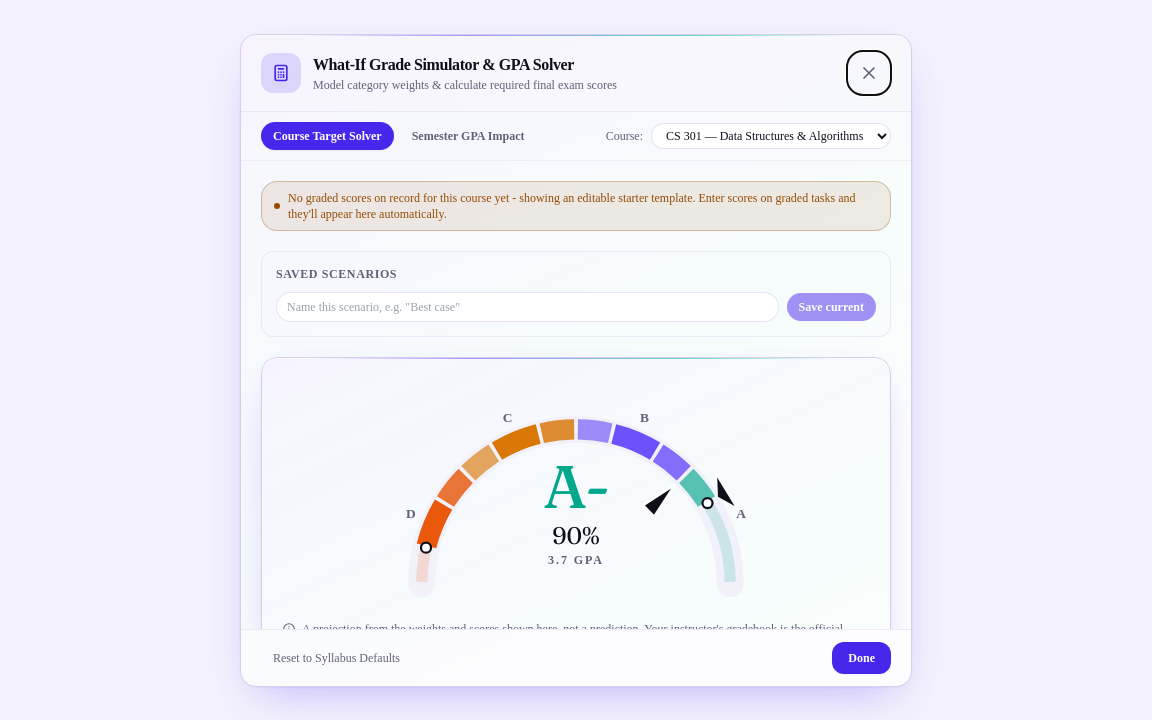
GradeCalculatorModal (Item 36) › switches between Course Target Solver and Semester GPA Impact tabs
The width and height of the screenshot is (1152, 720).
Step 1. Click the button "Semester GPA Impact" → click(468, 136), box [400,122,537,150]
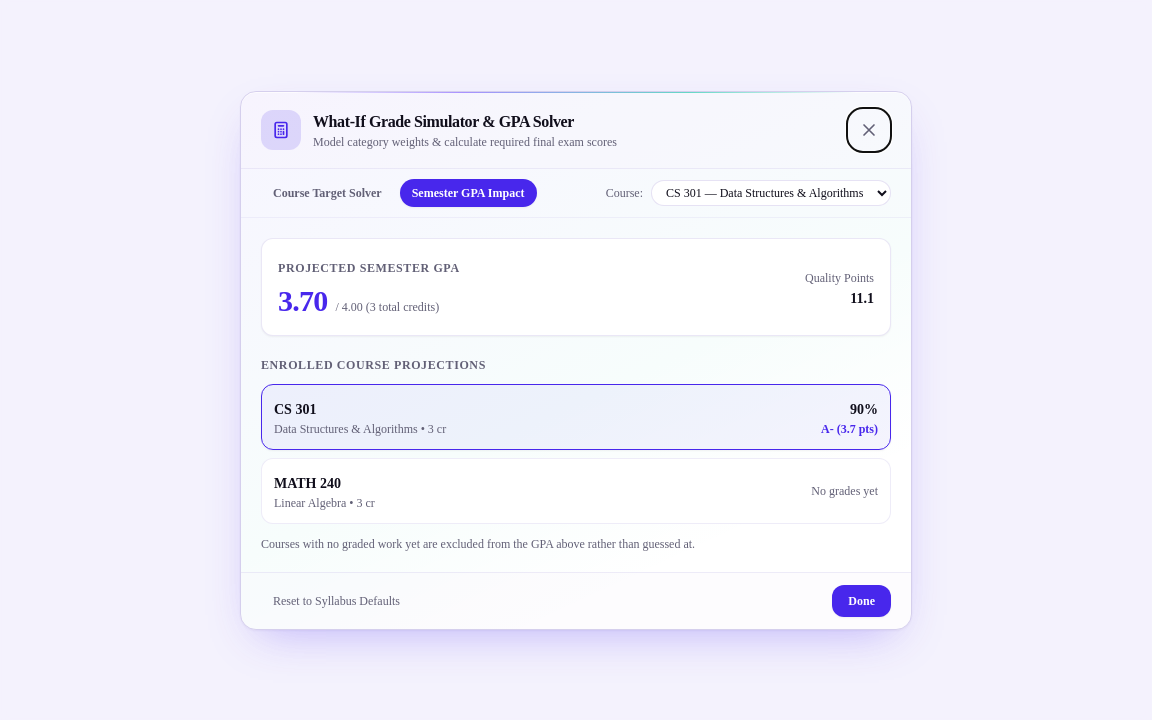
Expected: the text "Projected Semester GPA" is shown, [278,260,460,274]
Expected: the text "Enrolled Course Projections" is shown, [261,358,486,372]
